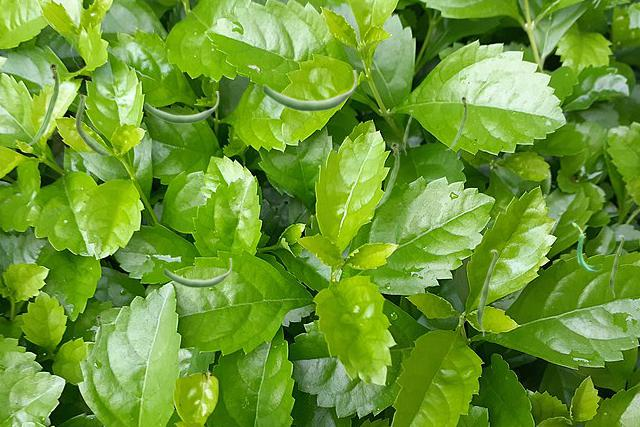french_bean: (262, 70, 356, 111), (24, 62, 58, 145), (144, 91, 218, 123), (75, 93, 110, 155), (163, 258, 231, 287), (476, 249, 497, 336), (371, 142, 398, 208), (572, 222, 601, 271), (445, 96, 466, 149), (81, 315, 101, 364), (609, 235, 623, 297), (402, 110, 412, 154)
